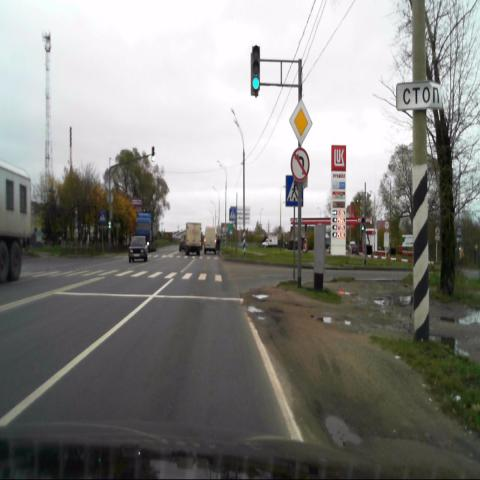3_18_2: (290, 147, 310, 180)
